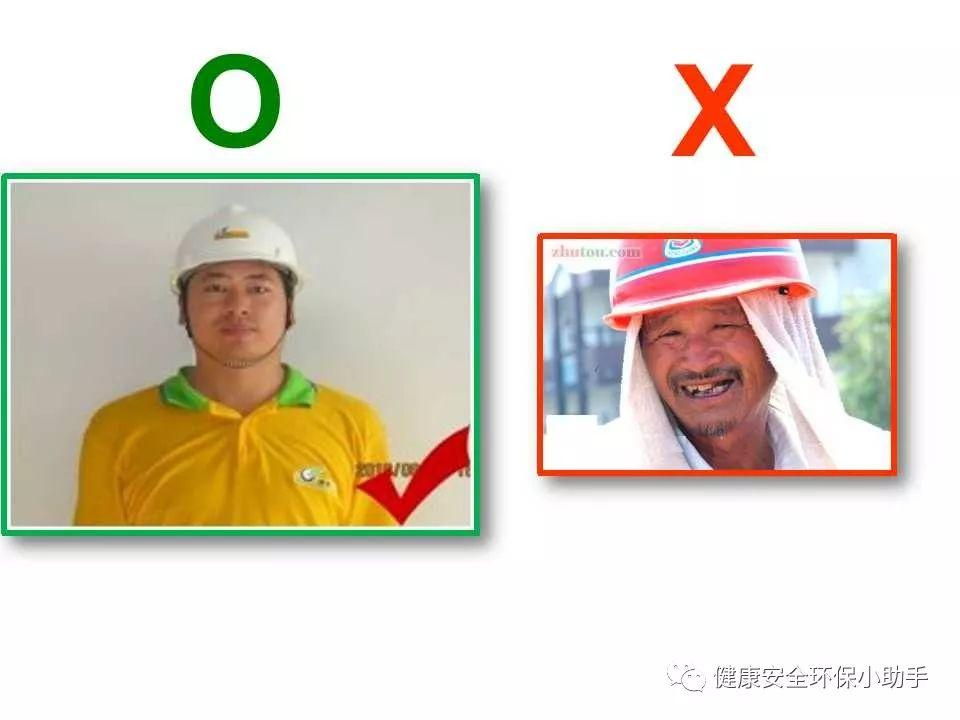helmet: (595, 233, 827, 332), (168, 200, 301, 281)
